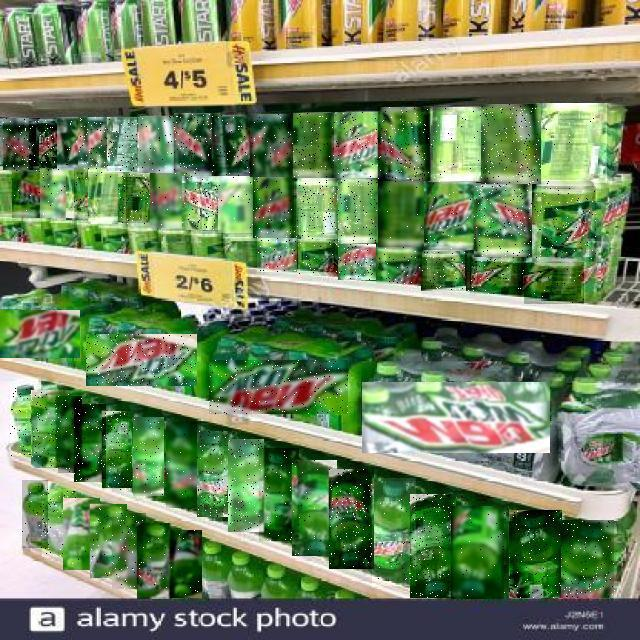Drinks: (362, 382, 550, 453), (209, 360, 348, 414), (536, 104, 610, 186), (86, 334, 197, 386), (532, 183, 596, 262), (452, 506, 506, 599), (481, 105, 541, 185), (410, 494, 456, 598), (372, 479, 416, 587), (509, 510, 562, 598), (329, 469, 374, 569), (292, 461, 337, 557), (474, 183, 532, 257), (562, 520, 616, 598), (430, 107, 484, 182), (378, 107, 431, 181), (0, 311, 80, 359), (259, 448, 299, 541), (424, 182, 476, 250), (228, 439, 264, 532), (335, 113, 383, 179), (378, 180, 424, 248), (32, 390, 72, 468), (175, 114, 221, 176), (250, 114, 295, 177), (90, 504, 127, 578), (138, 523, 174, 599), (294, 113, 336, 178), (166, 423, 197, 509), (197, 431, 228, 517), (63, 498, 100, 570), (254, 176, 296, 238), (112, 513, 146, 589), (296, 178, 338, 239), (524, 262, 584, 304), (74, 404, 106, 482), (133, 418, 164, 498), (338, 180, 377, 243), (213, 115, 253, 176), (102, 412, 132, 492), (42, 489, 76, 557), (108, 117, 150, 172), (140, 116, 178, 173), (150, 174, 190, 228), (182, 176, 221, 230), (78, 118, 117, 172), (118, 172, 156, 226), (218, 176, 254, 233), (172, 530, 202, 598), (88, 171, 126, 224), (13, 168, 53, 218), (471, 257, 525, 294), (422, 251, 470, 291), (3, 118, 39, 170), (58, 396, 82, 473), (23, 481, 49, 549), (66, 169, 100, 220), (376, 247, 422, 284), (41, 168, 75, 218), (57, 118, 88, 170), (10, 384, 32, 456), (29, 118, 57, 170), (298, 240, 338, 276), (338, 245, 376, 281), (257, 239, 297, 273)
